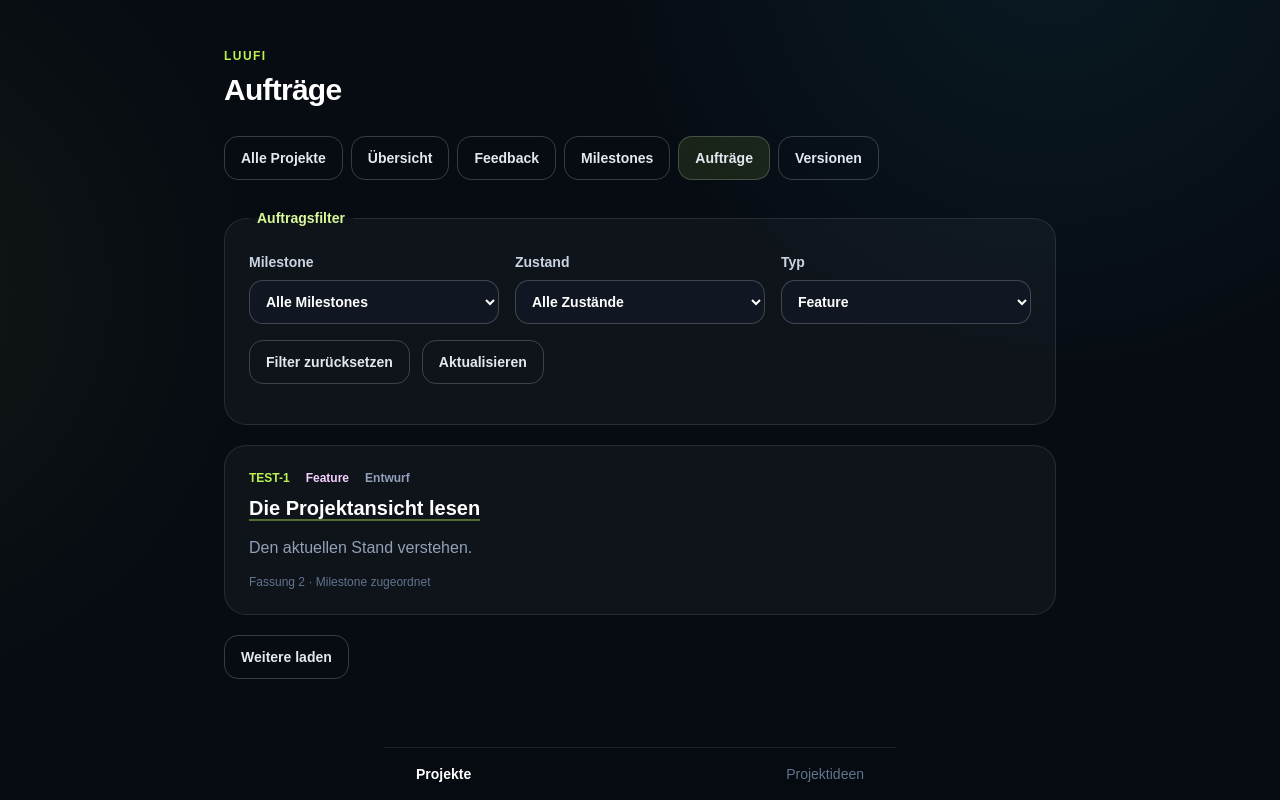
LUUFI-9 Aufträge und Spezifikationen lesen › lädt weitere gefilterte Aufträge am selben Filter und kann die Auswahl aktualisieren
The image size is (1280, 800).
Expected: the element named "TEST-1 Die Projektansicht lesen" is shown, [224,445,1056,615]
Click the button "Weitere laden".
click(286, 657)  # box [224,635,349,679]
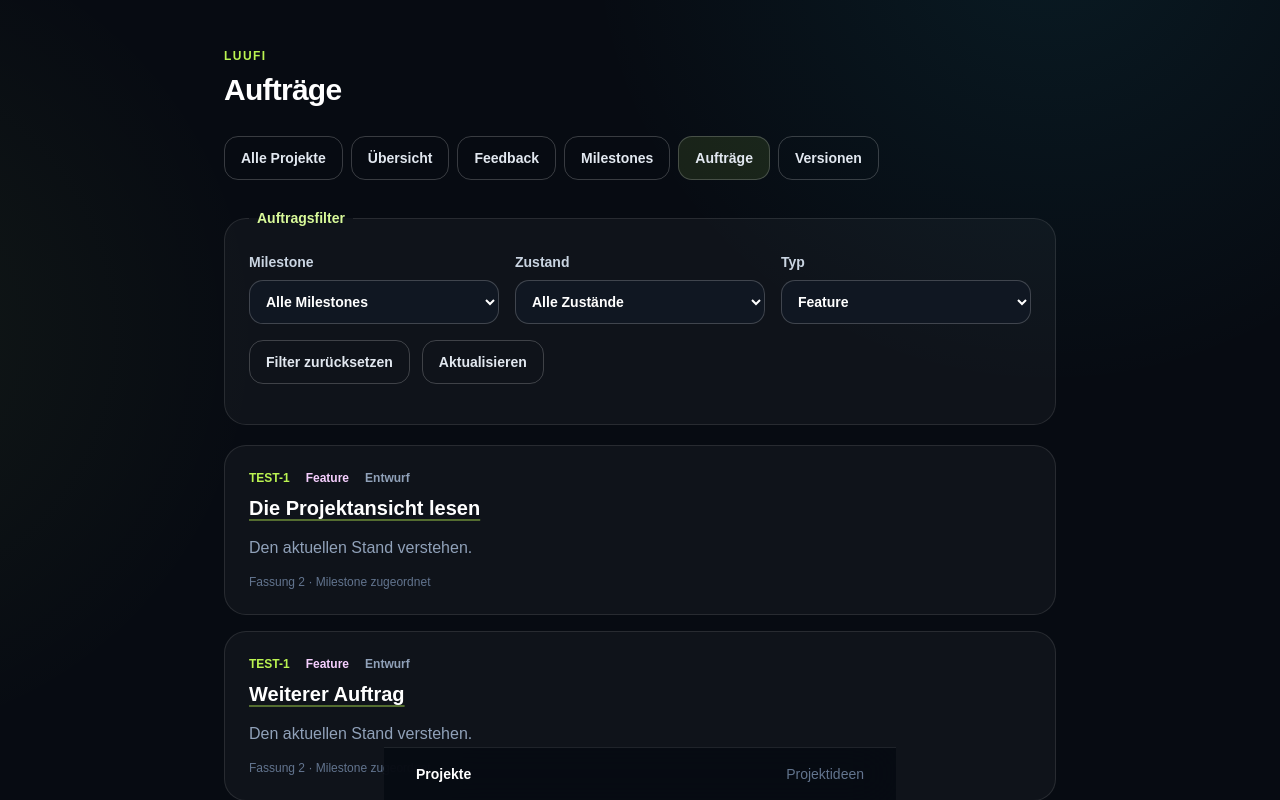
Now the link "Weiterer Auftrag" is shown, box [249,683,405,705]
Click the button "Aktualisieren".
click(483, 362)  # box [422,340,544,384]
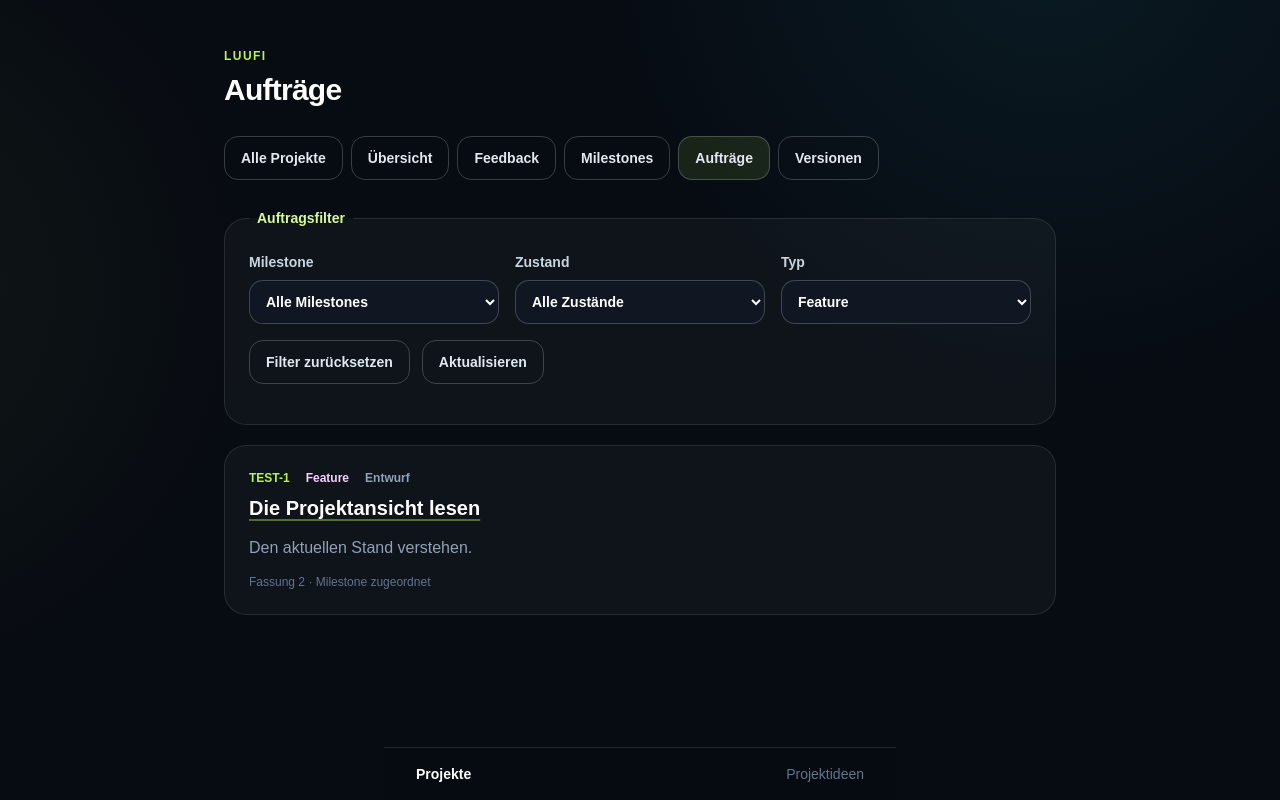
Now the link "Weiterer Auftrag" is gone
